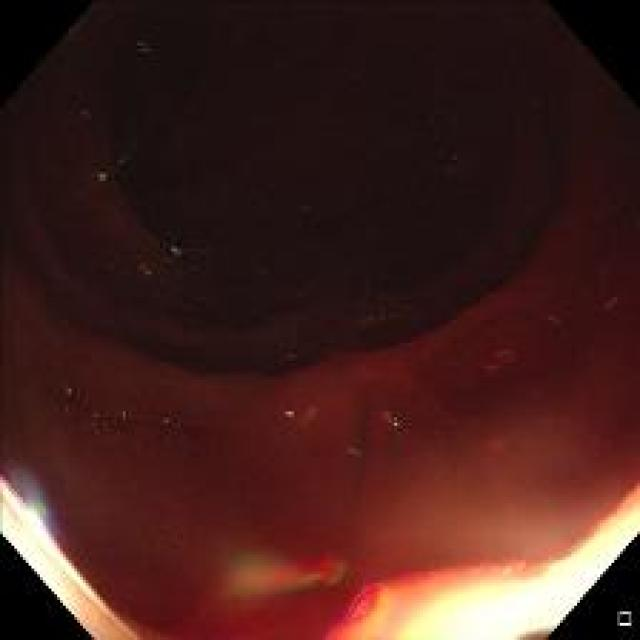color misalignment: (196, 550, 348, 595), (10, 469, 55, 555), (479, 341, 524, 380), (156, 412, 211, 436), (381, 405, 415, 438), (59, 374, 88, 409), (104, 402, 136, 430), (161, 231, 190, 259), (91, 160, 114, 191), (279, 410, 315, 429)
contrast: (11, 8, 601, 459)
saturation: (400, 561, 584, 631), (576, 489, 635, 575)
